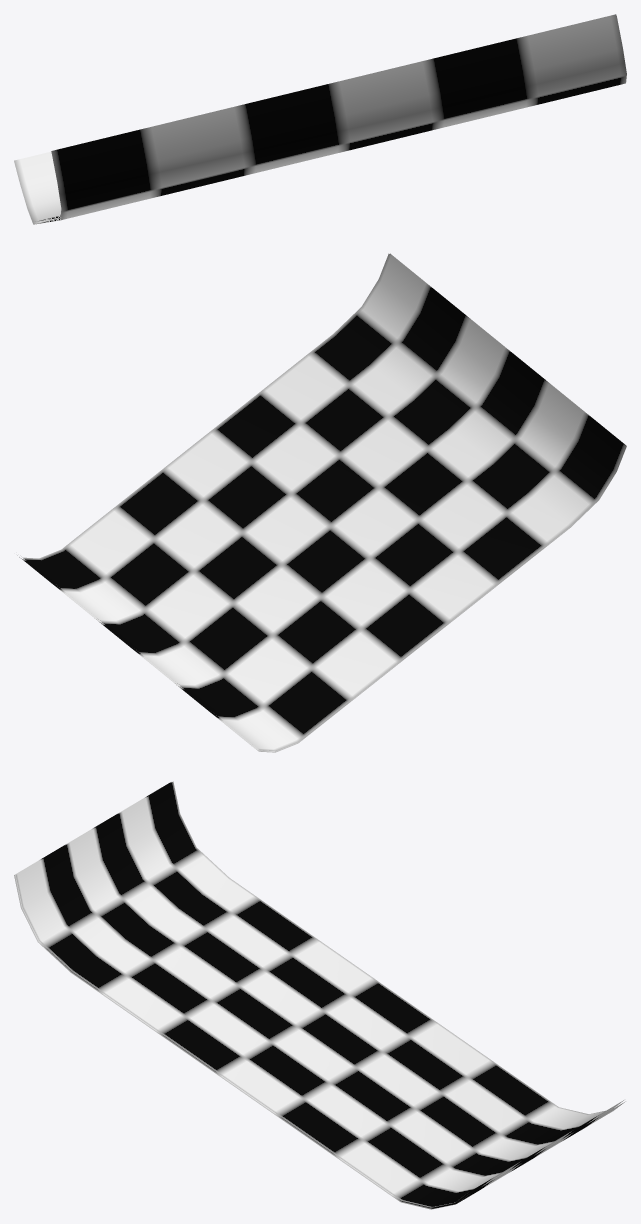
Rendered from initqu58.dae.
3 renders of one model, top to bottom at view 1: azimuth 30°, elevation 25°; view 2: azimuth 150°, elevation 25°; view 3: azimuth 270°, elevation 25°, orthographic. The views are drawn at different scales.
Parts seen in each view (by area): view 1: item; view 2: item; view 3: item.
Boxes of the visible parts, x1=… form: item: x1=14, y1=14, x2=626, y2=224; item: x1=17, y1=253, x2=626, y2=752; item: x1=14, y1=781, x2=625, y2=1209.
Size of the model in its own units: 1.61 by 1.56 by 0.8962.
1 material, 1 textured.
